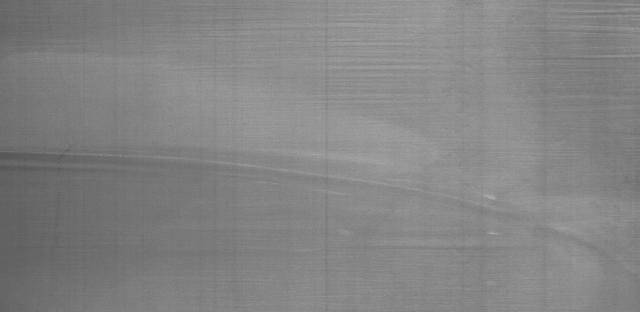waist_folding: (255, 5, 637, 160)
